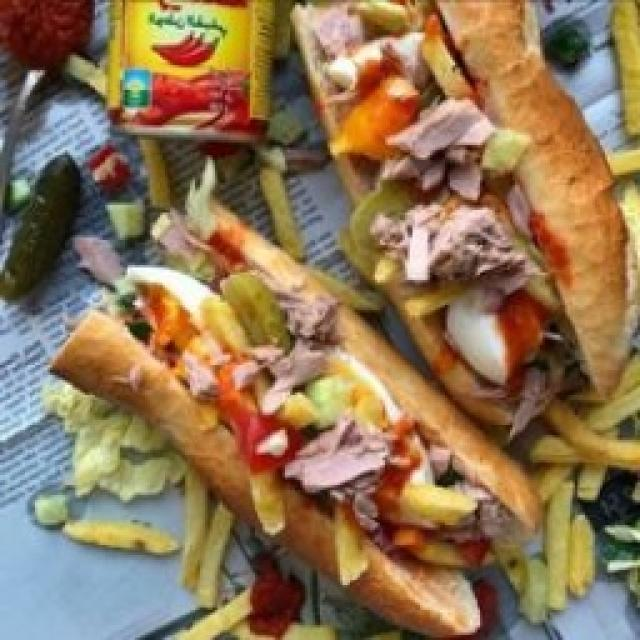Sandwitch tounsi: (51, 0, 640, 637)
